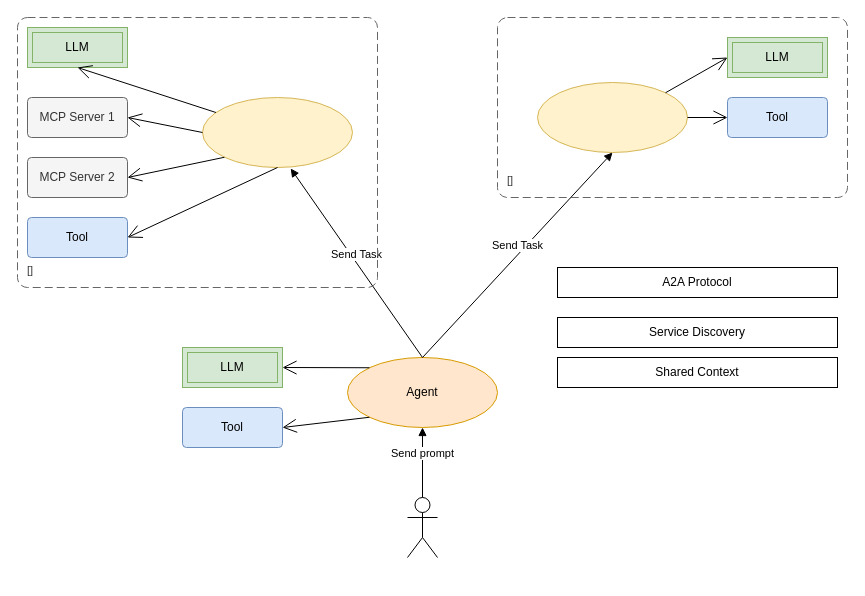
The diagram is 865 pixels wide and 596 high, and some of its shapes have lost their labels. The shapes that lost their labels are listed below. From the top down, each one's centre as x and y in pixels, then its label:
At point 277,132: "Remote Agent 1".
At point 612,117: "Remote Agent 2".
At point 422,527: "User".
